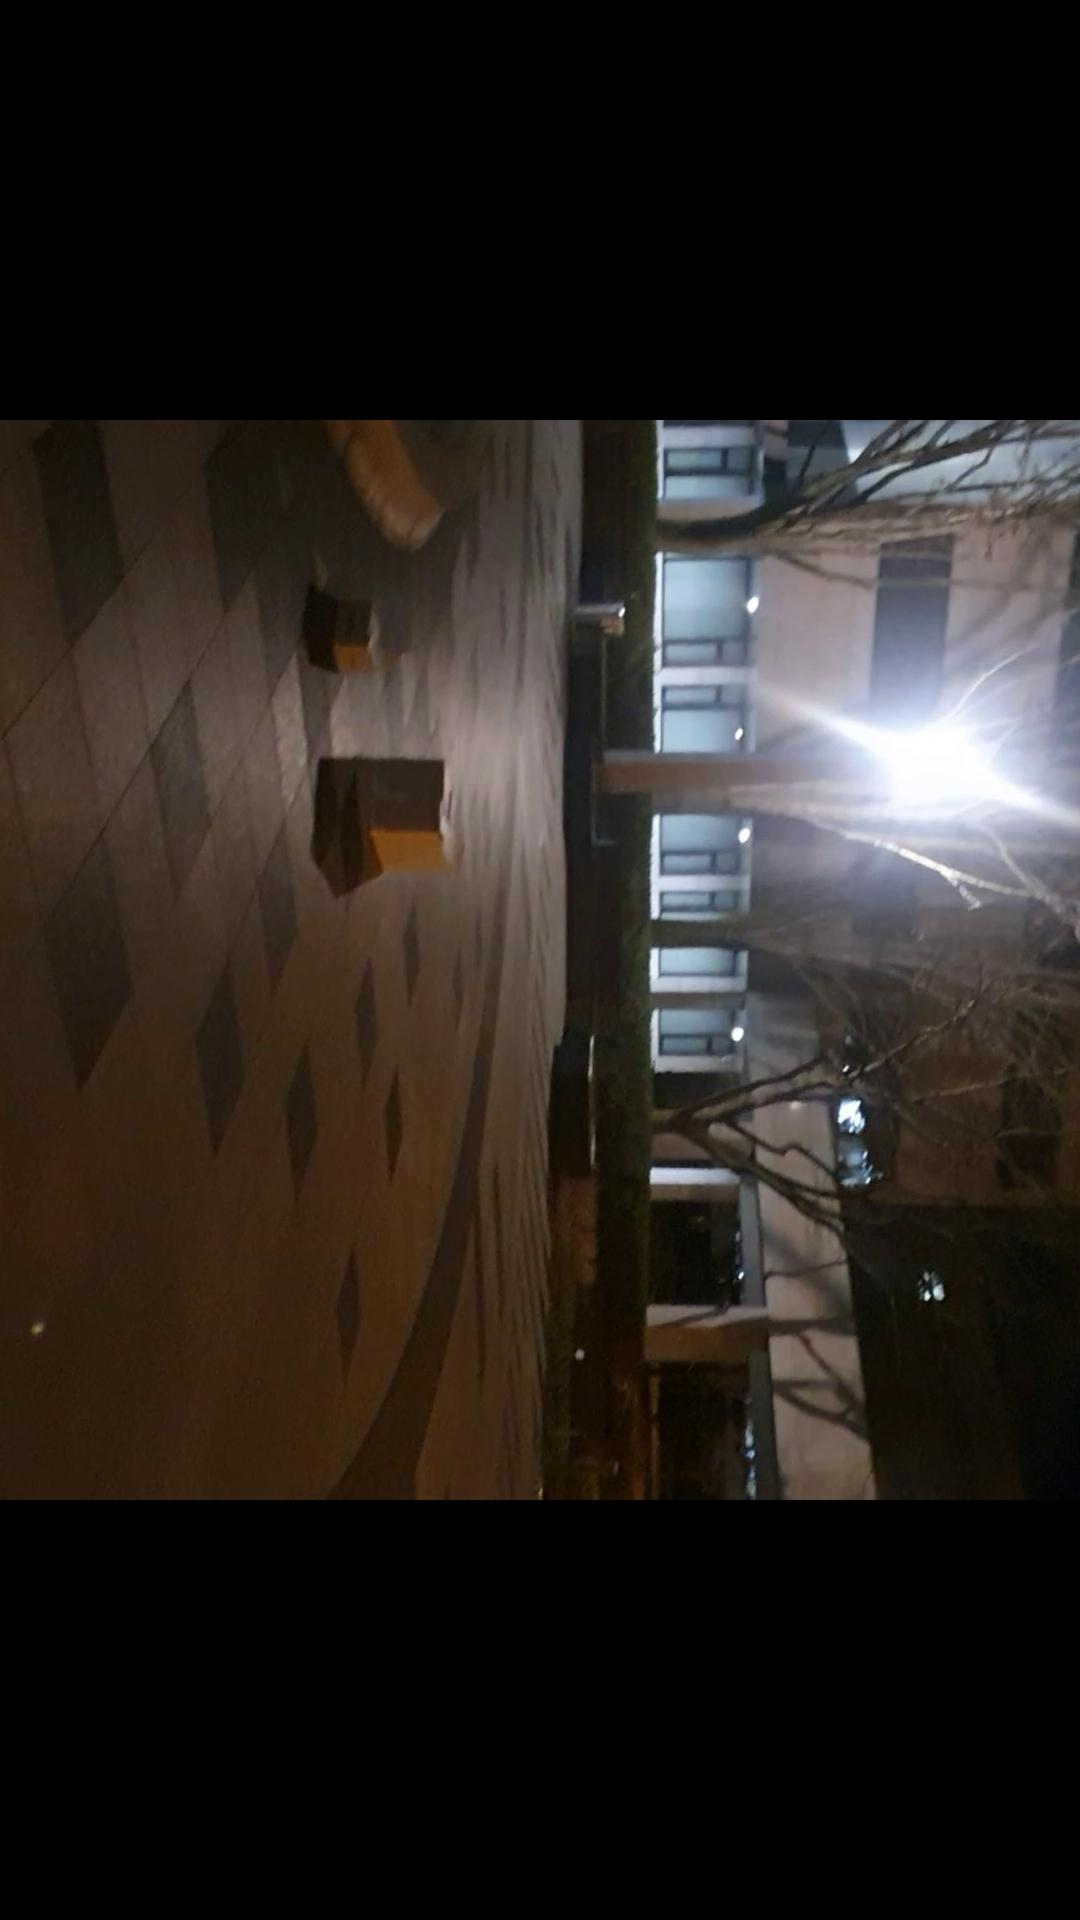Box: (343, 752, 475, 885), (318, 596, 390, 684)
